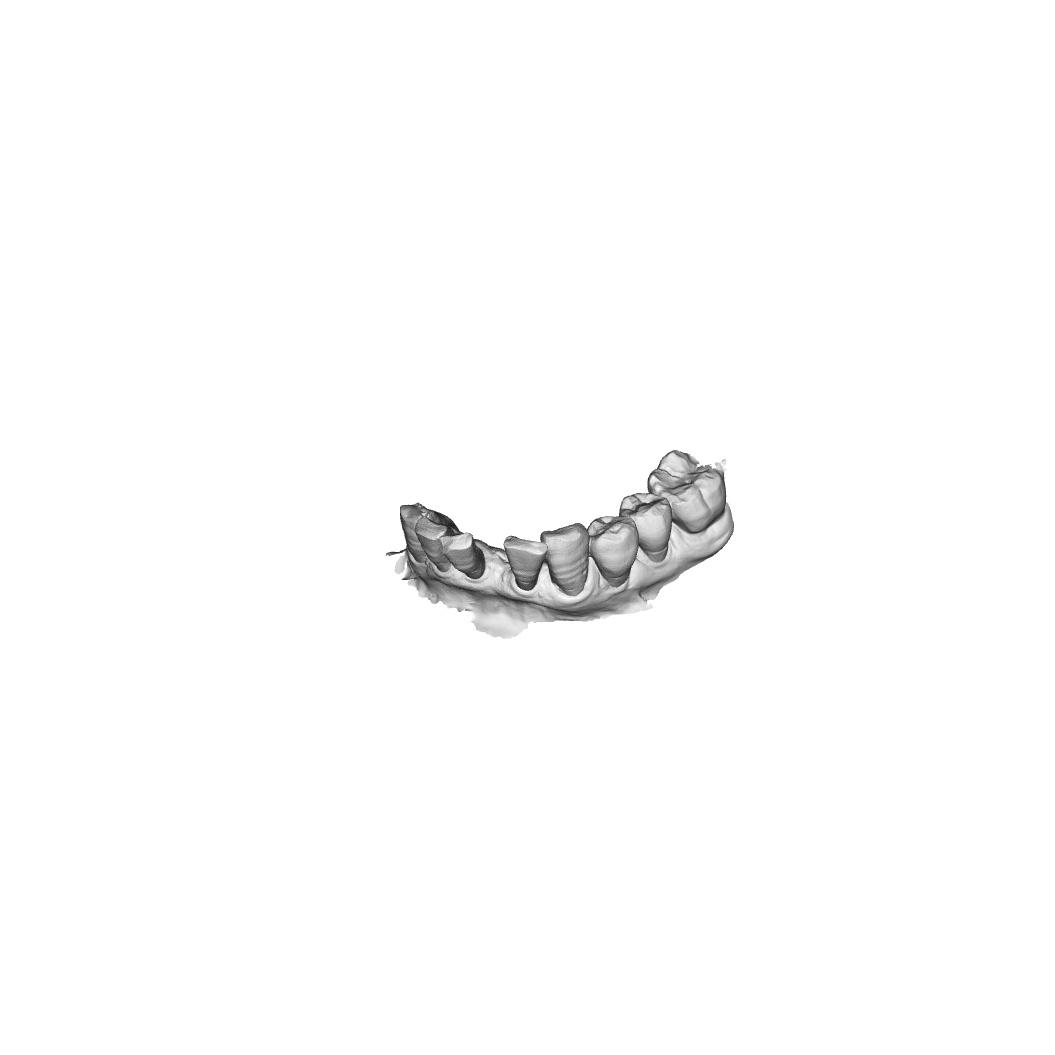canine: (540, 522, 590, 597), (399, 502, 439, 564)
incisor: (503, 534, 548, 591), (438, 532, 486, 581), (414, 515, 451, 573)
molar: (646, 449, 727, 534)
premolar: (618, 491, 674, 563), (587, 514, 640, 588)
